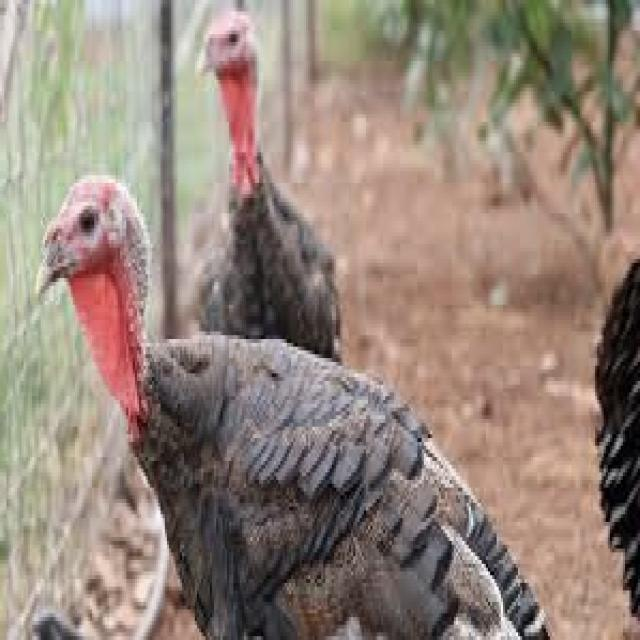turkey: (41, 175, 550, 636), (199, 11, 342, 358)
